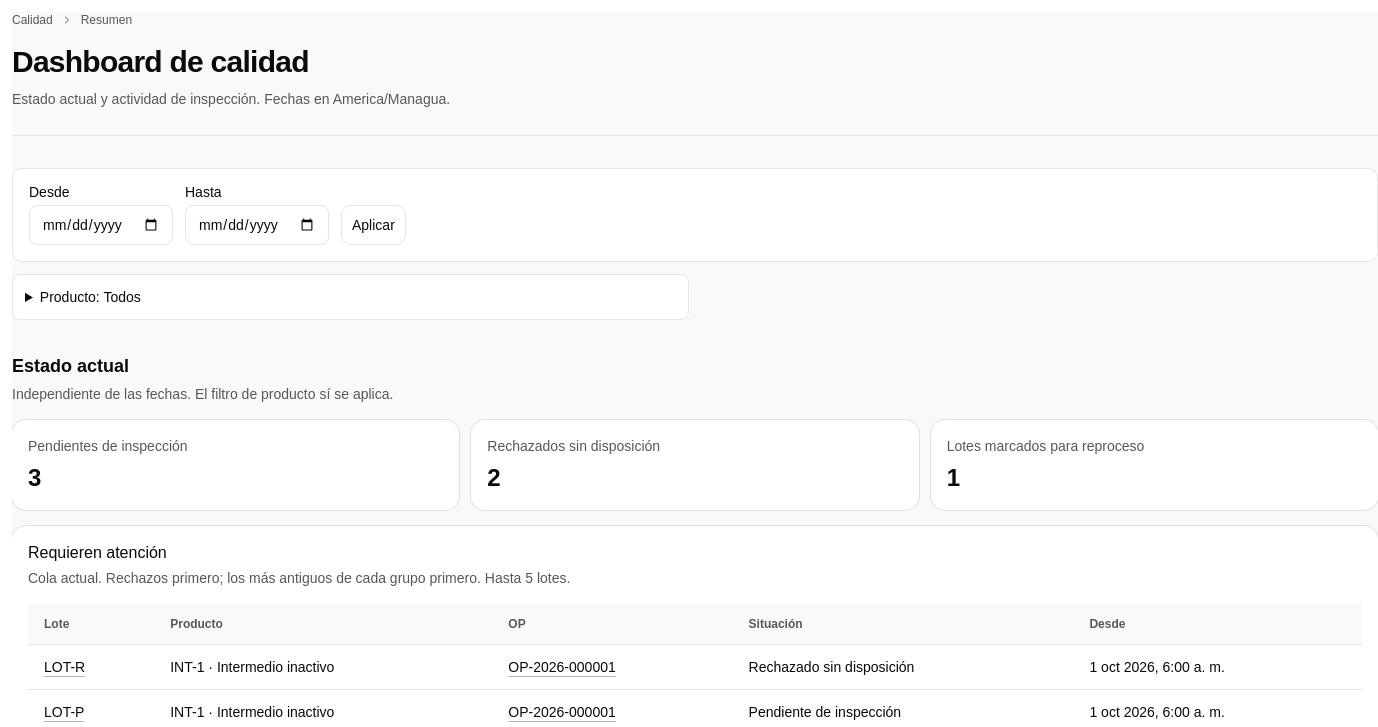
QualityDashboardPage › selects an inactive INTERMEDIATE without forcing type or active filters and clears selection
This screenshot has width=1378, height=727.
Expected: the text "Pendientes de inspección" is shown, [28,438,188,454]
Step 1. Click the heading "Producto: Todos" → (90, 297), box [40,289,141,305]
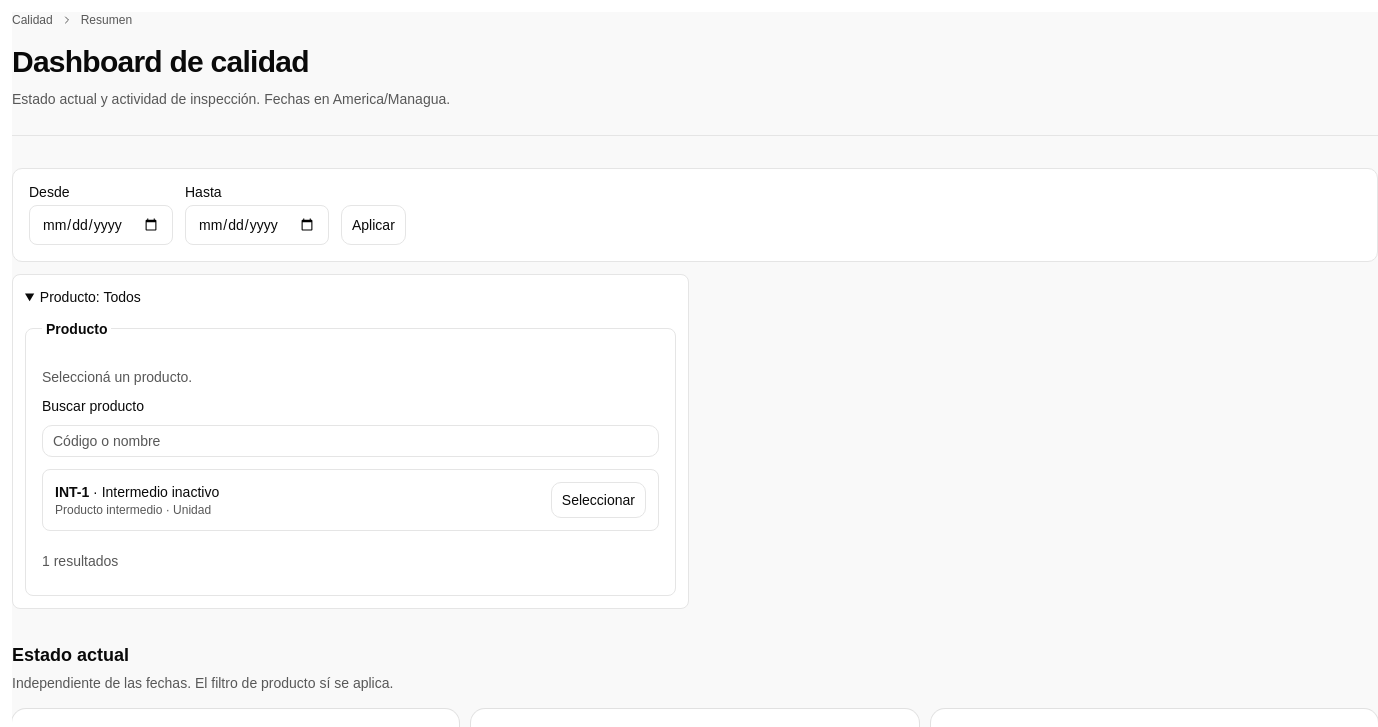
Step 2. Click the button with aria-label "INT-1 · Intermedio inactivo" → (598, 500), box [551,482,646,518]
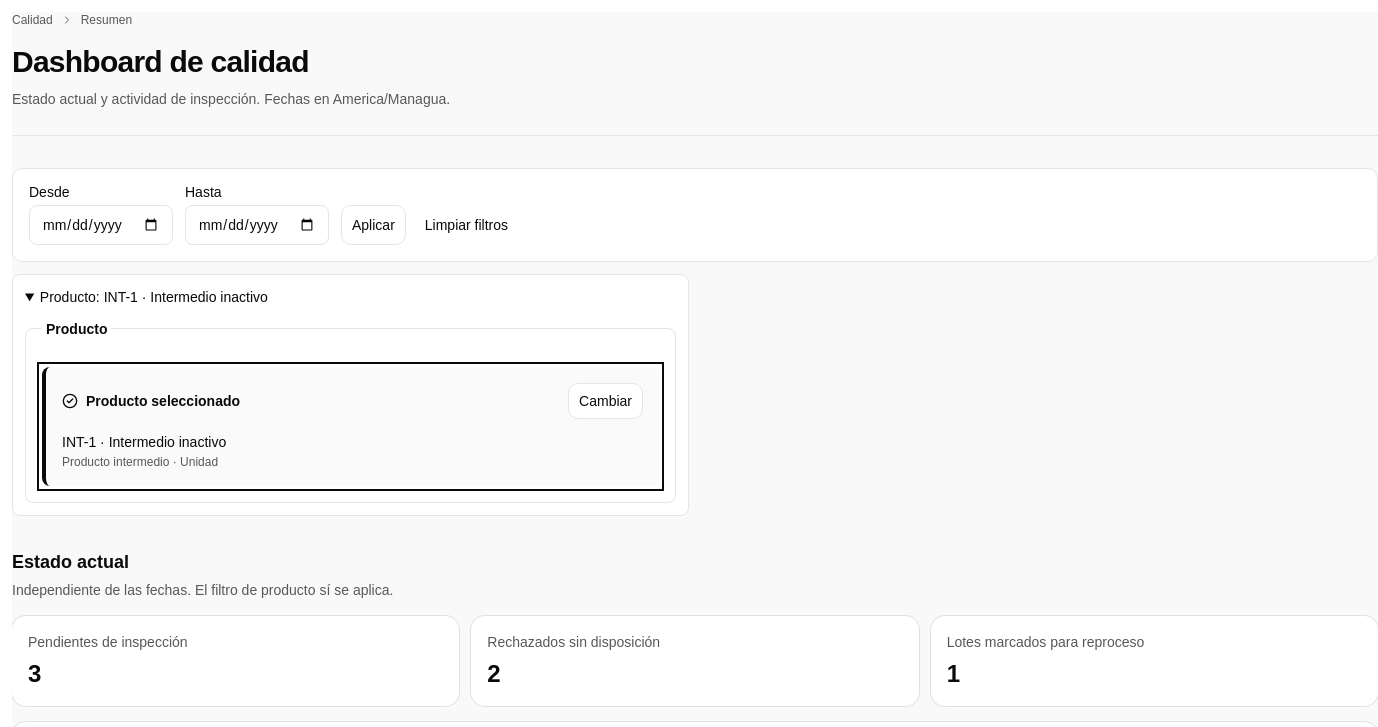
Expected: the heading "Producto: INT-1 · Intermedio inactivo" is shown, [40,289,268,305]
Step 3. Click the button "Limpiar filtros" → (466, 225), box [414,205,519,245]
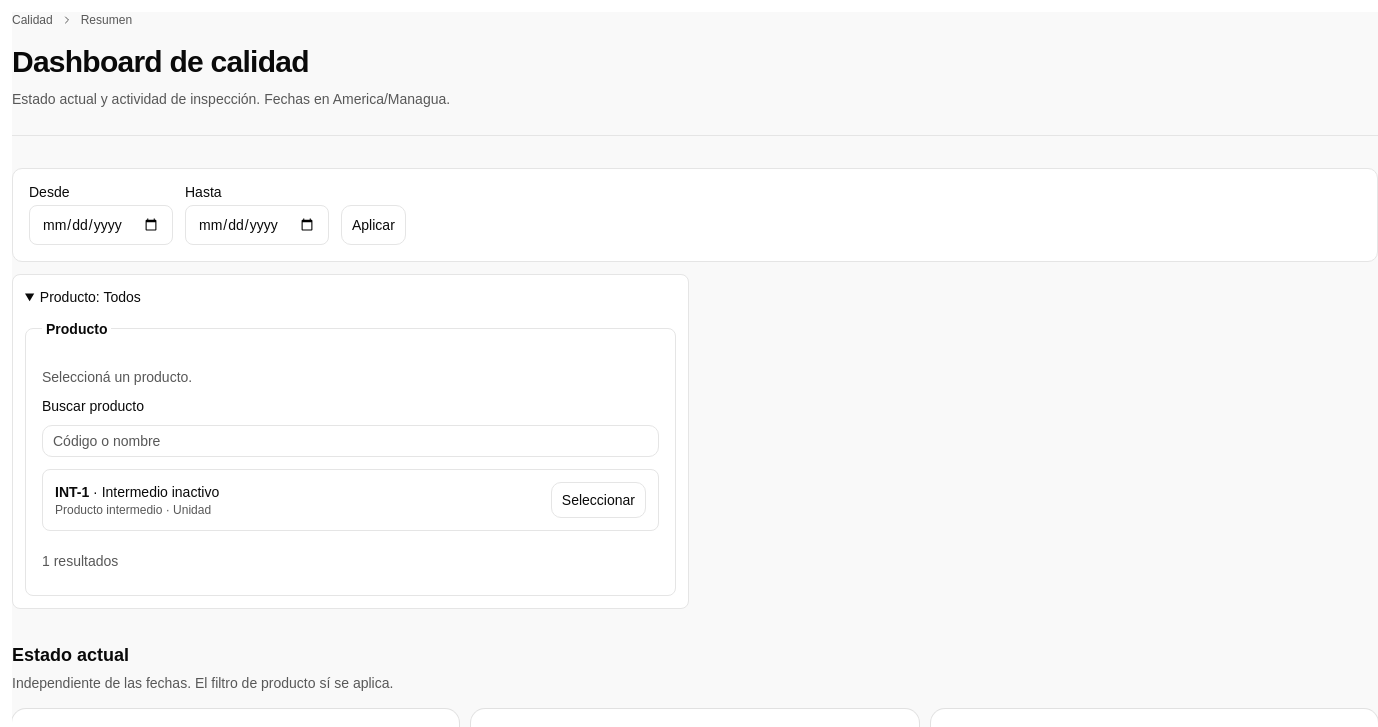
Expected: the heading "Producto: Todos" is shown, [40,289,141,305]
